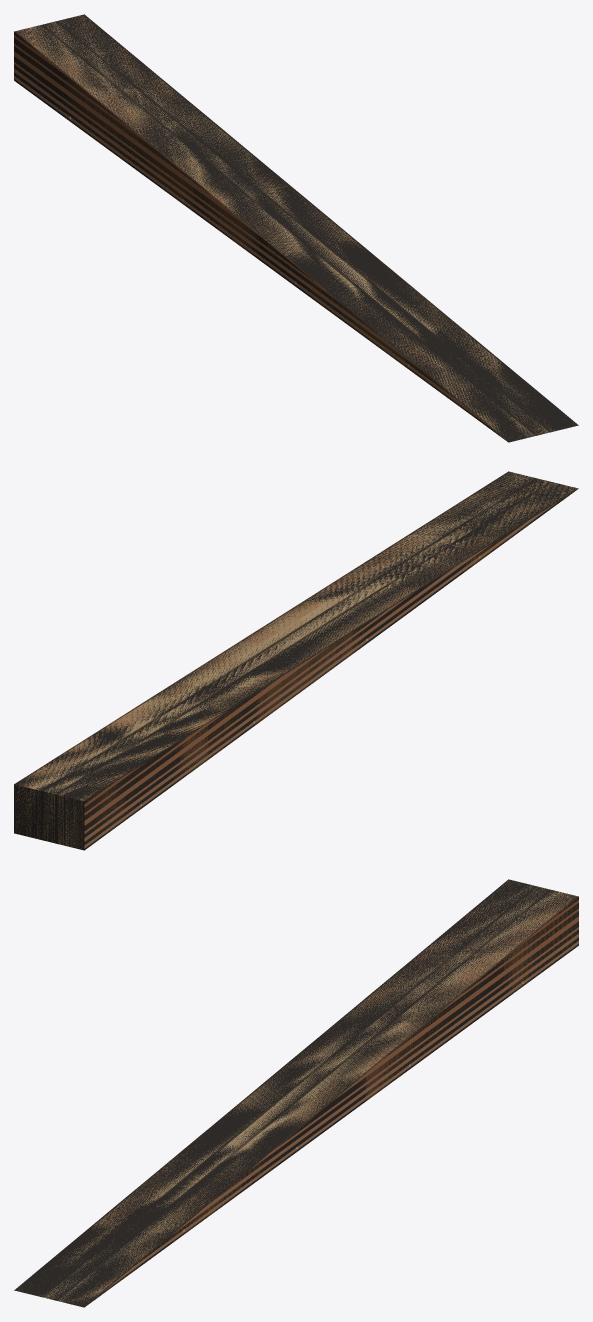
File: rim_road.glb
3 renders of one model, top to bottom at view 1: azimuth 30°, elevation 25°; view 2: azimuth 150°, elevation 25°; view 3: azimuth 330°, elevation 25°, orthographic.
Parts seen in each view (by area): view 1: rim_road-col-col, rim_road_body; view 2: rim_road-col-col, rim_road_body; view 3: rim_road-col-col, rim_road_body.
Part boxes in pixels (left/top/right/bottom): rim_road-col-col: left=14, top=14, right=578, bottom=442; rim_road_body: left=14, top=14, right=578, bottom=441; rim_road-col-col: left=14, top=471, right=578, bottom=850; rim_road_body: left=14, top=472, right=577, bottom=849; rim_road-col-col: left=14, top=879, right=578, bottom=1307; rim_road_body: left=17, top=880, right=578, bottom=1306.
Bounding box in the file's own units: 36.28 × 24 × 438.
